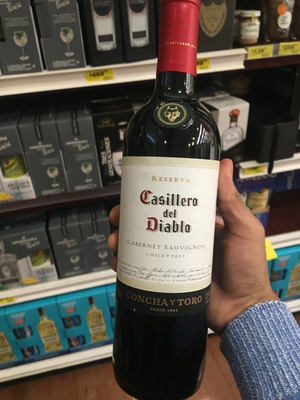casillero del diablo cabernet sauvignon: (102, 19, 225, 369)
